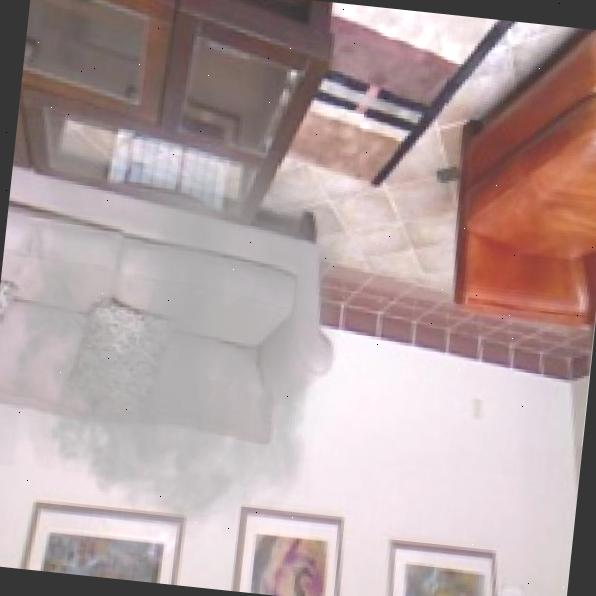smoke: (0, 124, 356, 565)
